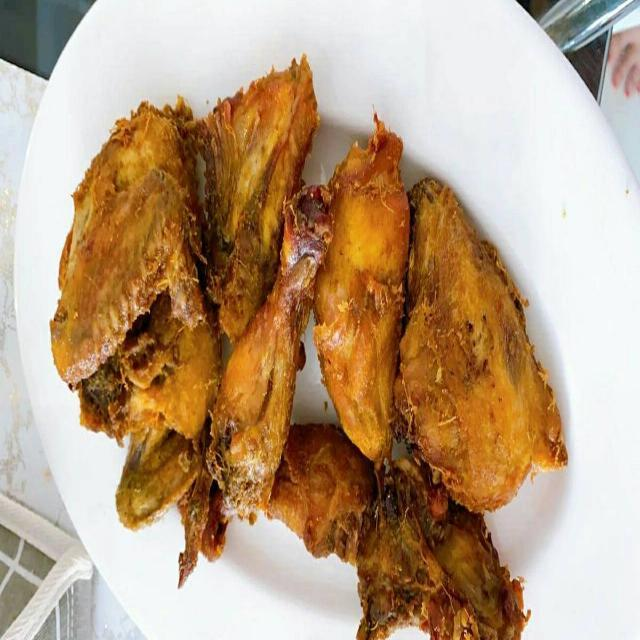ayam_goreng: (38, 84, 544, 637)
